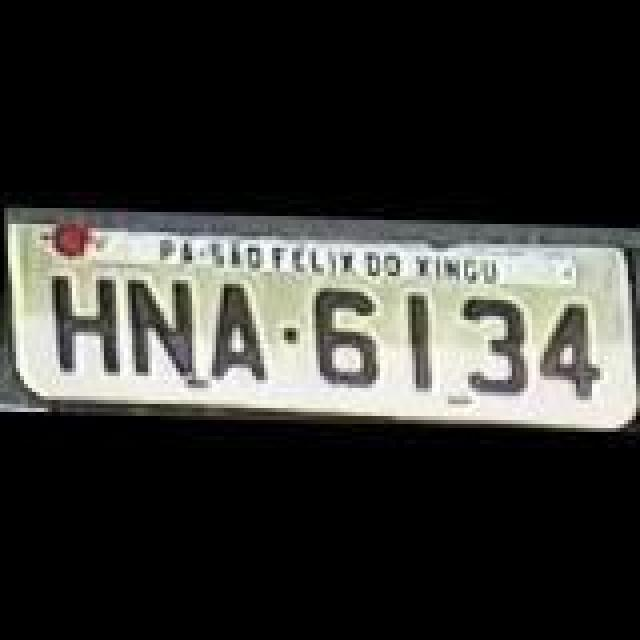1: (396, 294, 436, 394)
3: (456, 290, 536, 398)
4: (534, 296, 610, 408)
6: (308, 284, 380, 388)
A: (210, 280, 278, 384)
H: (42, 272, 126, 384)
N: (122, 274, 198, 382)
